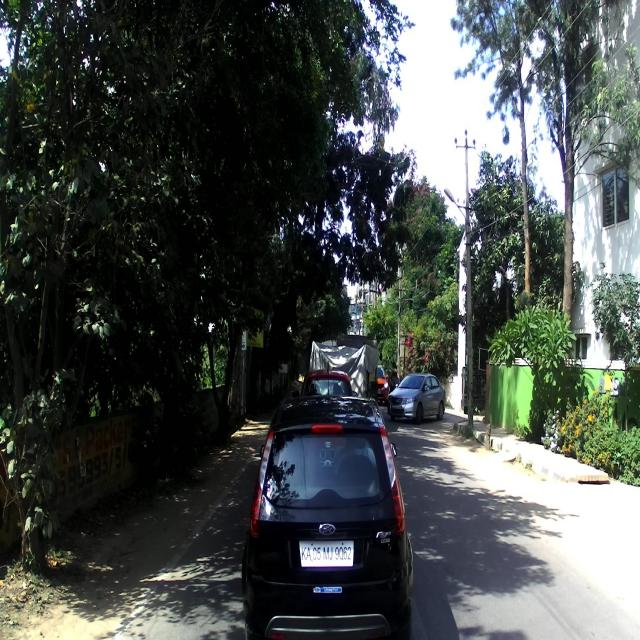Car_Ford: (243, 381, 417, 639)
Car_Honda: (386, 369, 449, 422)
